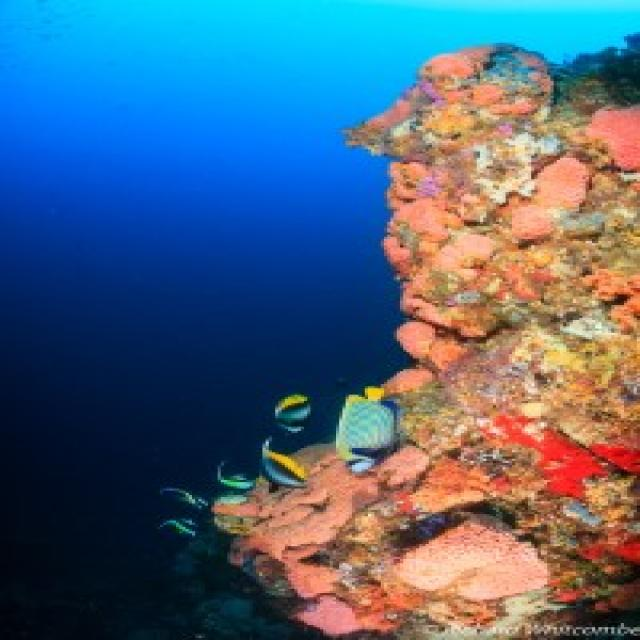Healthy: (215, 447, 375, 551), (385, 229, 555, 315), (487, 413, 638, 498), (398, 517, 548, 600), (417, 46, 548, 118), (385, 163, 462, 272), (500, 157, 587, 240), (385, 323, 471, 394), (564, 270, 638, 349), (590, 106, 638, 170)
